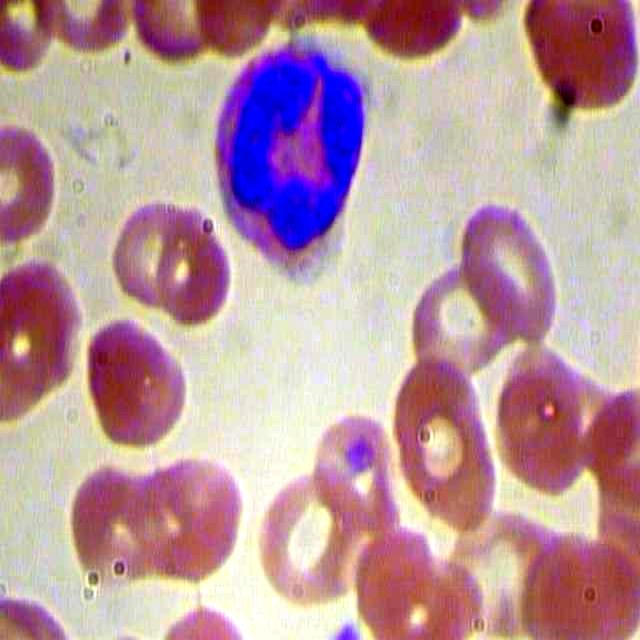RBC: (387, 355, 506, 536), (407, 237, 516, 391), (456, 195, 565, 348), (254, 459, 363, 612), (492, 348, 600, 501), (81, 310, 194, 450), (135, 451, 245, 585), (61, 455, 171, 589), (305, 413, 413, 540), (522, 1, 639, 115), (110, 193, 216, 304), (148, 213, 234, 329), (1, 118, 59, 242)
WBC: (191, 33, 396, 295)
